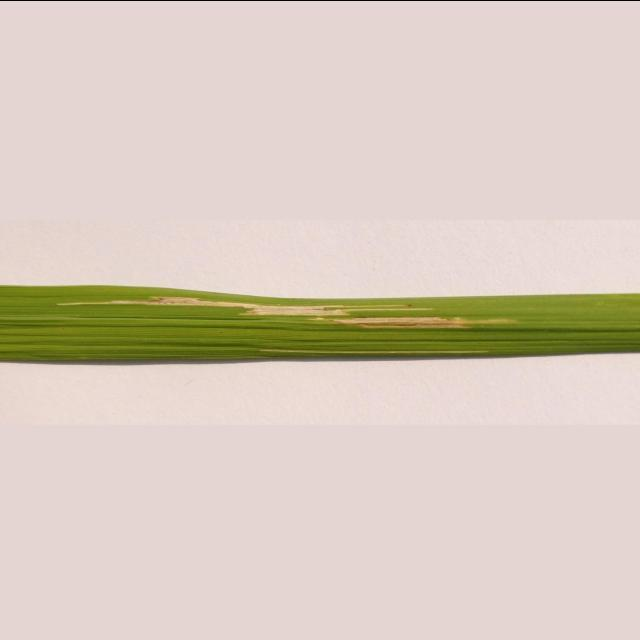Bacterial leaf blight: (0, 222, 640, 432)
